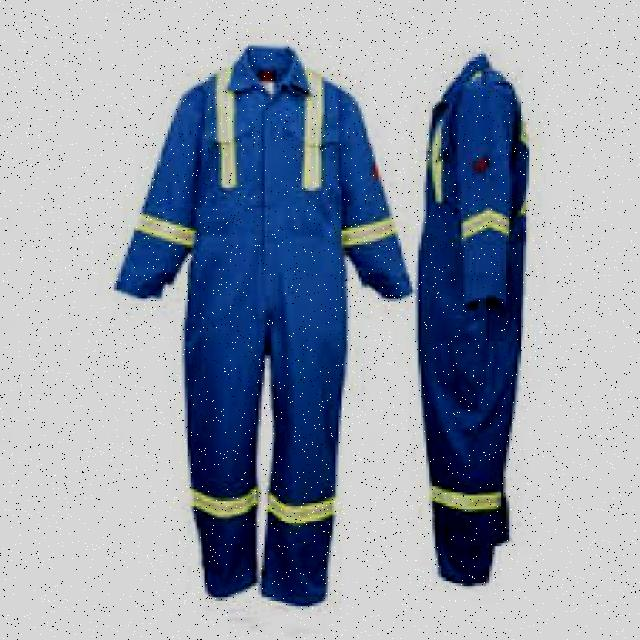Mask: (120, 61, 402, 572), (418, 70, 537, 544)
